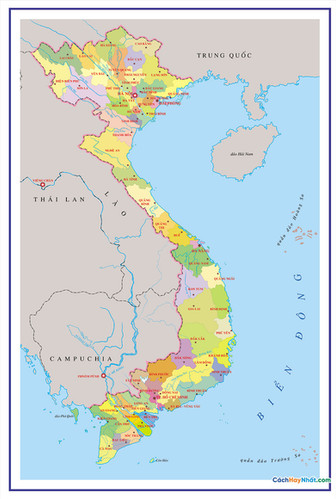Island: (238, 434, 318, 475), (273, 191, 318, 256)
